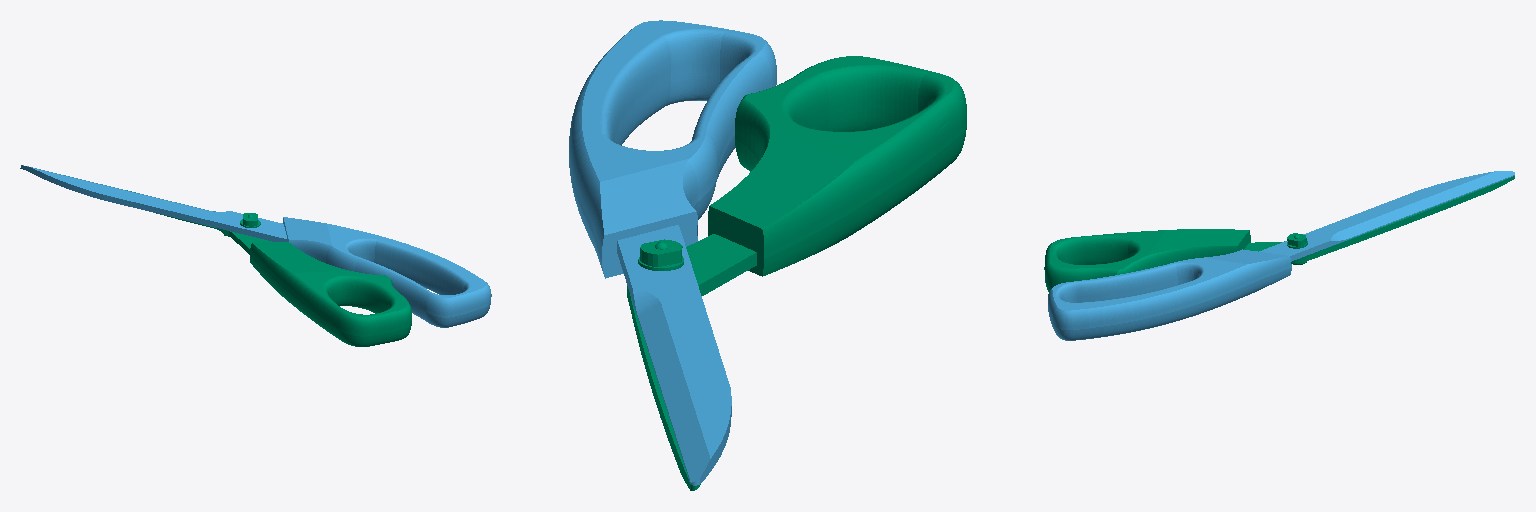
URDF robot description (partnet_1dfea364-ded5-4c4d-b4d8-bf2c3c268f00):
<?xml version="1.0" ?>
<robot name="partnet_1dfea364-ded5-4c4d-b4d8-bf2c3c268f00">
	<link name="base"/>
	<link name="link_0">
		<visual name="blade-4">
			<origin xyz="0.29104926406298404 -0.06418870823616296 -0.0777497538229044"/>
			<geometry>
				<mesh filename="textured_objs/original-6.obj"/>
			</geometry>
		</visual>
		<visual name="handle-5">
			<origin xyz="0.29104926406298404 -0.06418870823616296 -0.0777497538229044"/>
			<geometry>
				<mesh filename="textured_objs/original-1.obj"/>
			</geometry>
		</visual>
		<visual name="handle-5">
			<origin xyz="0.29104926406298404 -0.06418870823616296 -0.0777497538229044"/>
			<geometry>
				<mesh filename="textured_objs/original-2.obj"/>
			</geometry>
		</visual>
		<collision>
			<origin xyz="0.29104926406298404 -0.06418870823616296 -0.0777497538229044"/>
			<geometry>
				<mesh filename="textured_objs/original-6.obj"/>
			</geometry>
		</collision>
		<collision>
			<origin xyz="0.29104926406298404 -0.06418870823616296 -0.0777497538229044"/>
			<geometry>
				<mesh filename="textured_objs/original-1.obj"/>
			</geometry>
		</collision>
		<collision>
			<origin xyz="0.29104926406298404 -0.06418870823616296 -0.0777497538229044"/>
			<geometry>
				<mesh filename="textured_objs/original-2.obj"/>
			</geometry>
		</collision>
	</link>
	<joint name="joint_0" type="revolute">
		<origin xyz="-0.29104926406298404 0.06418870823616296 0.0777497538229044"/>
		<axis xyz="0 1 0"/>
		<child link="link_0"/>
		<parent link="link_1"/>
		<limit lower="0.0" upper="1.5707963267948966"/>
	</joint>
	<link name="link_1">
		<visual name="screw-3">
			<origin xyz="0 0 0"/>
			<geometry>
				<mesh filename="textured_objs/original-13.obj"/>
			</geometry>
		</visual>
		<visual name="screw-3">
			<origin xyz="0 0 0"/>
			<geometry>
				<mesh filename="textured_objs/original-9.obj"/>
			</geometry>
		</visual>
		<visual name="screw-3">
			<origin xyz="0 0 0"/>
			<geometry>
				<mesh filename="textured_objs/original-8.obj"/>
			</geometry>
		</visual>
		<visual name="screw-3">
			<origin xyz="0 0 0"/>
			<geometry>
				<mesh filename="textured_objs/original-10.obj"/>
			</geometry>
		</visual>
		<visual name="screw-3">
			<origin xyz="0 0 0"/>
			<geometry>
				<mesh filename="textured_objs/original-12.obj"/>
			</geometry>
		</visual>
		<visual name="screw-3">
			<origin xyz="0 0 0"/>
			<geometry>
				<mesh filename="textured_objs/original-14.obj"/>
			</geometry>
		</visual>
		<visual name="blade-6">
			<origin xyz="0 0 0"/>
			<geometry>
				<mesh filename="textured_objs/original-5.obj"/>
			</geometry>
		</visual>
		<visual name="handle-7">
			<origin xyz="0 0 0"/>
			<geometry>
				<mesh filename="textured_objs/original-3.obj"/>
			</geometry>
		</visual>
		<visual name="handle-7">
			<origin xyz="0 0 0"/>
			<geometry>
				<mesh filename="textured_objs/original-4.obj"/>
			</geometry>
		</visual>
		<collision>
			<origin xyz="0 0 0"/>
			<geometry>
				<mesh filename="textured_objs/original-13.obj"/>
			</geometry>
		</collision>
		<collision>
			<origin xyz="0 0 0"/>
			<geometry>
				<mesh filename="textured_objs/original-9.obj"/>
			</geometry>
		</collision>
		<collision>
			<origin xyz="0 0 0"/>
			<geometry>
				<mesh filename="textured_objs/original-8.obj"/>
			</geometry>
		</collision>
		<collision>
			<origin xyz="0 0 0"/>
			<geometry>
				<mesh filename="textured_objs/original-10.obj"/>
			</geometry>
		</collision>
		<collision>
			<origin xyz="0 0 0"/>
			<geometry>
				<mesh filename="textured_objs/original-12.obj"/>
			</geometry>
		</collision>
		<collision>
			<origin xyz="0 0 0"/>
			<geometry>
				<mesh filename="textured_objs/original-14.obj"/>
			</geometry>
		</collision>
		<collision>
			<origin xyz="0 0 0"/>
			<geometry>
				<mesh filename="textured_objs/original-5.obj"/>
			</geometry>
		</collision>
		<collision>
			<origin xyz="0 0 0"/>
			<geometry>
				<mesh filename="textured_objs/original-3.obj"/>
			</geometry>
		</collision>
		<collision>
			<origin xyz="0 0 0"/>
			<geometry>
				<mesh filename="textured_objs/original-4.obj"/>
			</geometry>
		</collision>
	</link>
	<joint name="joint_1" type="fixed">
		<origin rpy="1.570796326794897 0 -1.570796326794897" xyz="0 0 0"/>
		<child link="link_1"/>
		<parent link="base"/>
	</joint>
</robot>

--- What the picture shows (computed from the rendered views, not written in the file) ---
Views: 3 orthographic renders of the robot side by side, from view 1: azimuth 30°, elevation 25°; view 2: azimuth 150°, elevation 25°; view 3: azimuth 270°, elevation 25°.
Robot: partnet_1dfea364-ded5-4c4d-b4d8-bf2c3c268f00 — 3 links, 2 joints (1 revolute, 1 fixed); root link base; default pose: all joints at 0.
Links seen in each view (by area): view 1: link_0, link_1; view 2: link_0, link_1; view 3: link_0, link_1.
Boxes of the visible links, box(x1,y1,x2,y2) form: link_0: box(21, 165, 491, 327); link_1: box(20, 168, 411, 346); link_0: box(569, 20, 776, 485); link_1: box(627, 56, 966, 490); link_0: box(1048, 171, 1514, 340); link_1: box(1044, 176, 1514, 291).
Bounding box of the posed robot: 0.8128 × 1.3 × 0.1543 m (x, y, z).
12 mesh visuals loaded from 12 distinct referenced files (12 OBJ).
